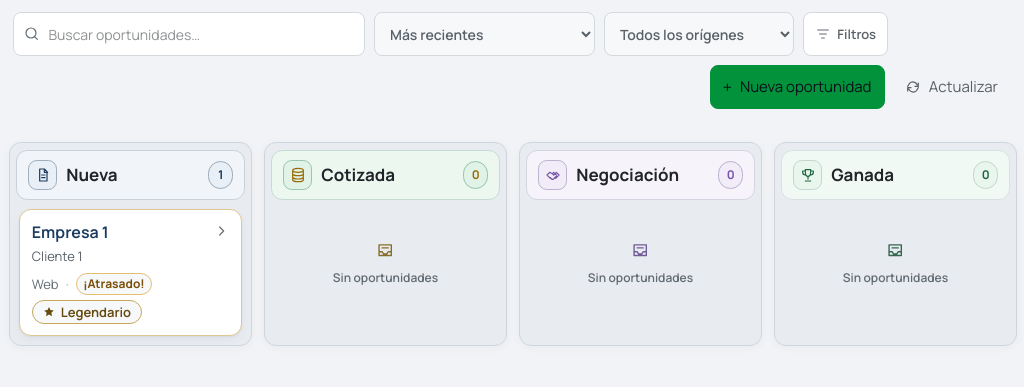
Test: PipelinePage › keeps time in stage hidden until the optional view setting is enabled
The image size is (1024, 387).
Check: the heading "Nueva" is shown, box [66,163,118,187]
Check: the text "En etapa:" is not shown
Click the heading "Filtros": click(846, 34) [803,12,888,56]
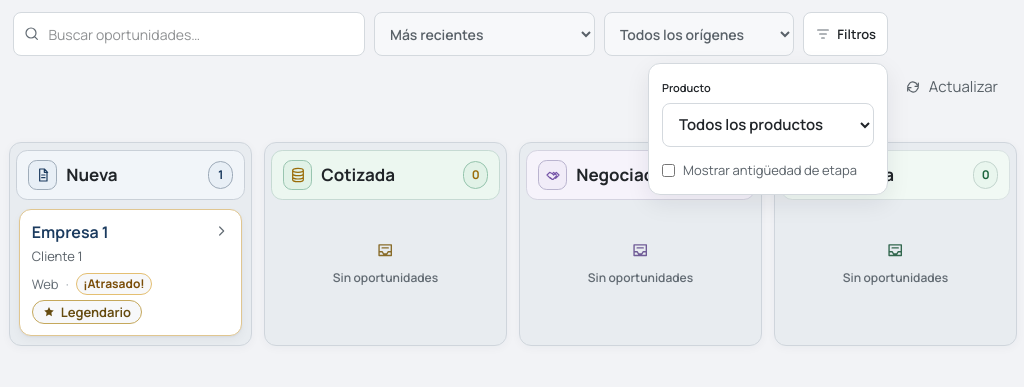
Click the checkbox labelled "Mostrar antigüedad de etapa": click(669, 170) [662,164,675,177]
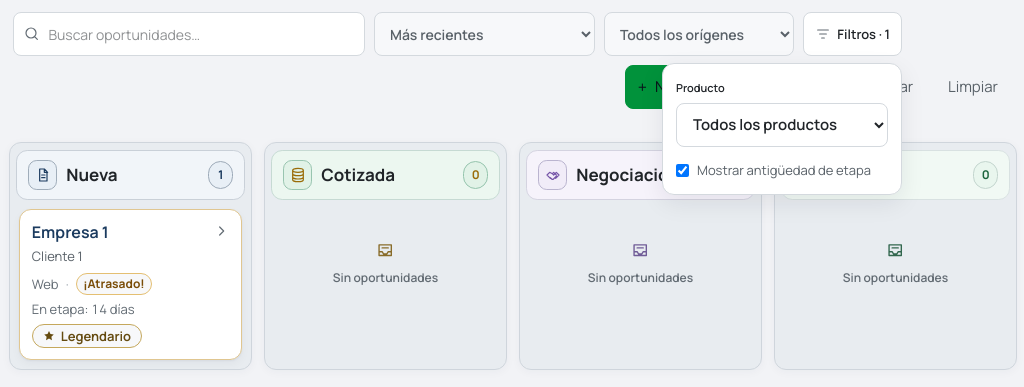
Check: the text "En etapa: 14 días" is shown, box [32,300,134,318]
